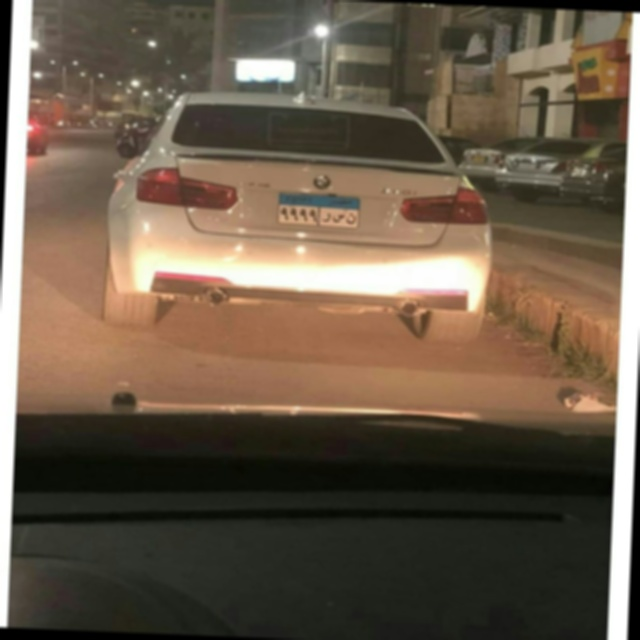License Plate: (275, 190, 361, 230)
